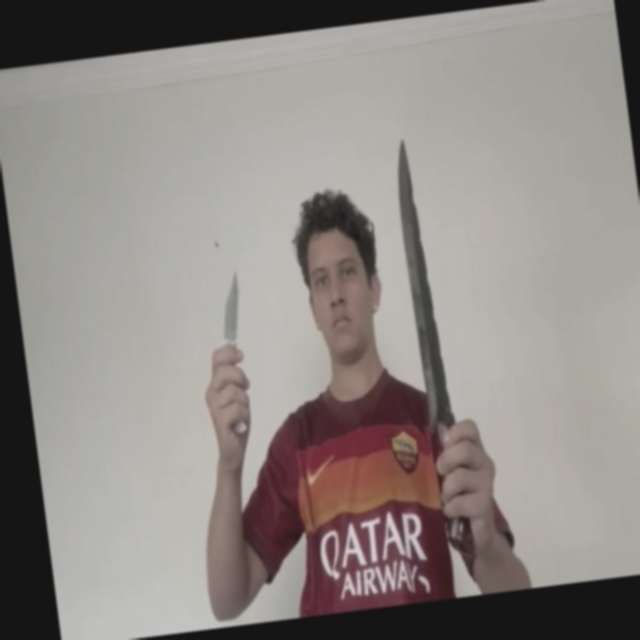Sharp-Object: (389, 138, 452, 431), (215, 270, 246, 339)
